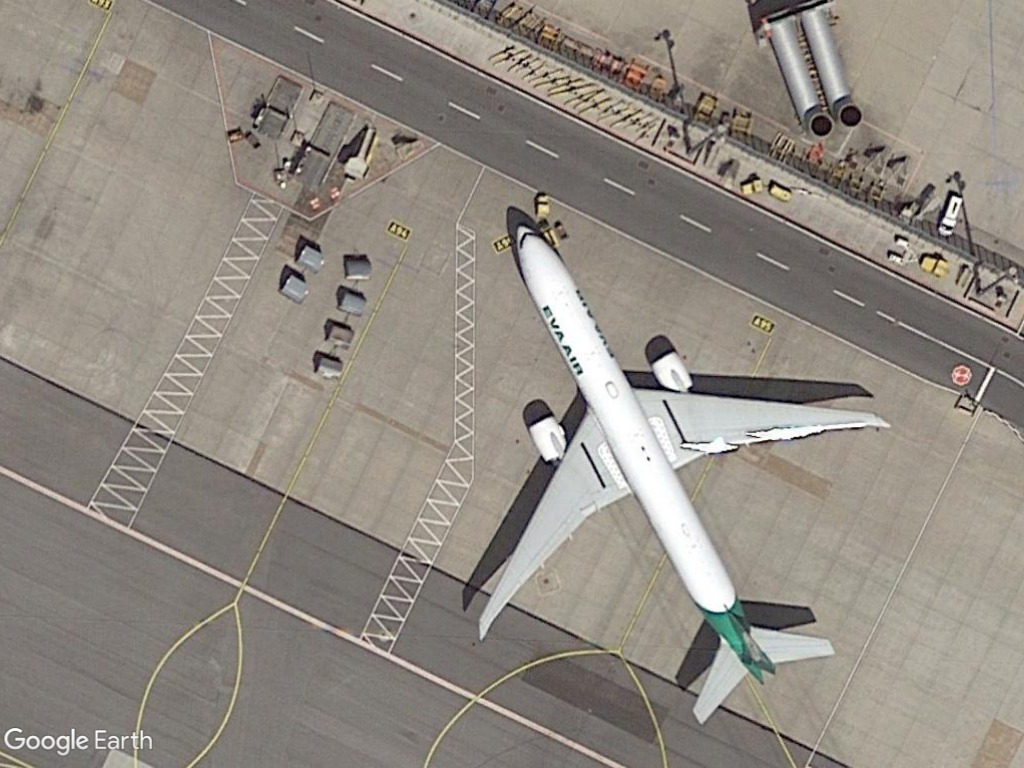airliner: (472, 220, 898, 728)
stairtruck: (338, 118, 386, 187)
van: (934, 191, 969, 240)
